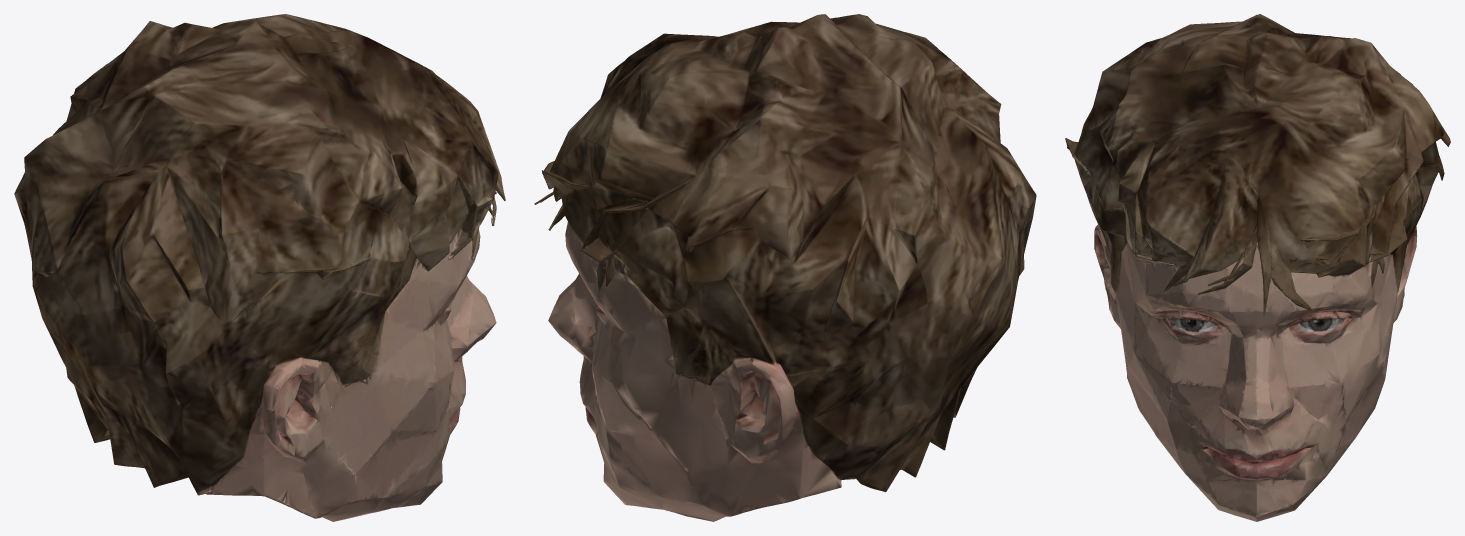
File: head.glb
3 renders of one model, left to right at view 1: azimuth 30°, elevation 25°; view 2: azimuth 150°, elevation 25°; view 3: azimuth 270°, elevation 25°, orthographic. The views are drawn at different scales.
Parts seen in each view (by area): view 1: tripo_node_f8b5f2a7-3832-4761-a59a-597328b05fd8; view 2: tripo_node_f8b5f2a7-3832-4761-a59a-597328b05fd8; view 3: tripo_node_f8b5f2a7-3832-4761-a59a-597328b05fd8.
Boxes of the visible parts, <box> form: tripo_node_f8b5f2a7-3832-4761-a59a-597328b05fd8: <box>14,14,505,521</box>; tripo_node_f8b5f2a7-3832-4761-a59a-597328b05fd8: <box>534,14,1036,521</box>; tripo_node_f8b5f2a7-3832-4761-a59a-597328b05fd8: <box>1065,14,1450,521</box>.
Size of the model in its own units: 0.2751 by 0.3 by 0.2453.
Materials: 1 (1 with a texture image).
